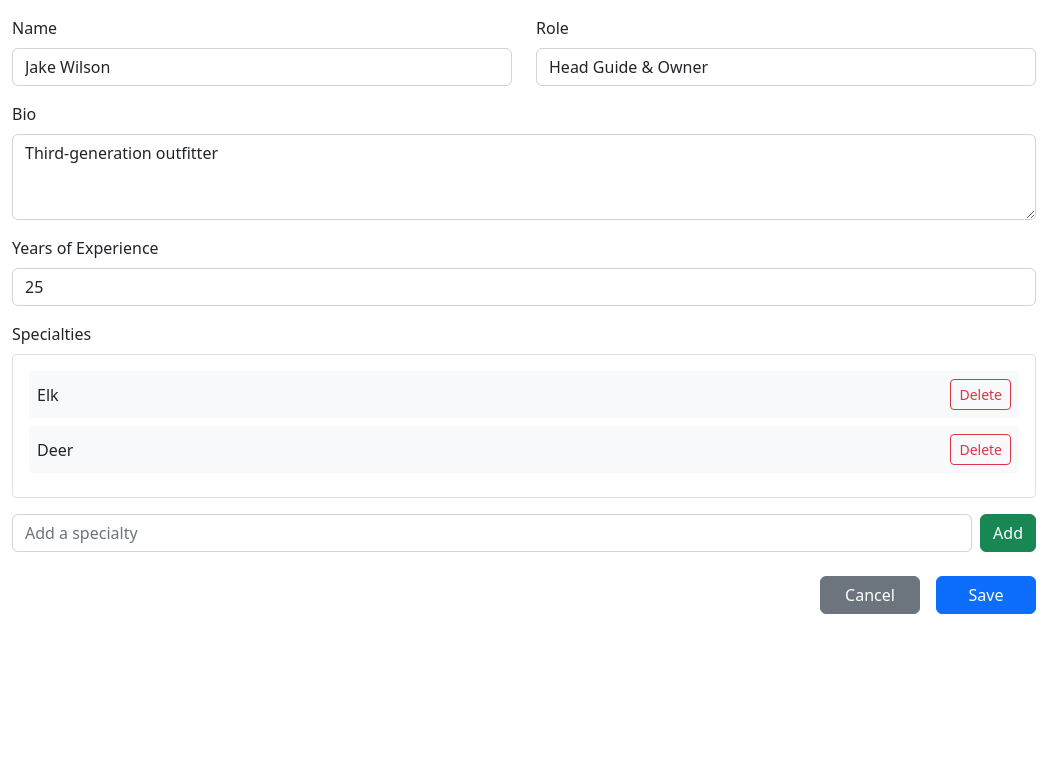
Scenario: GuideForm › should add new specialty when add button clicked
Type "Bear" into the field with placeholder "Add a specialty" at (492, 533), box [12,514,972,552]
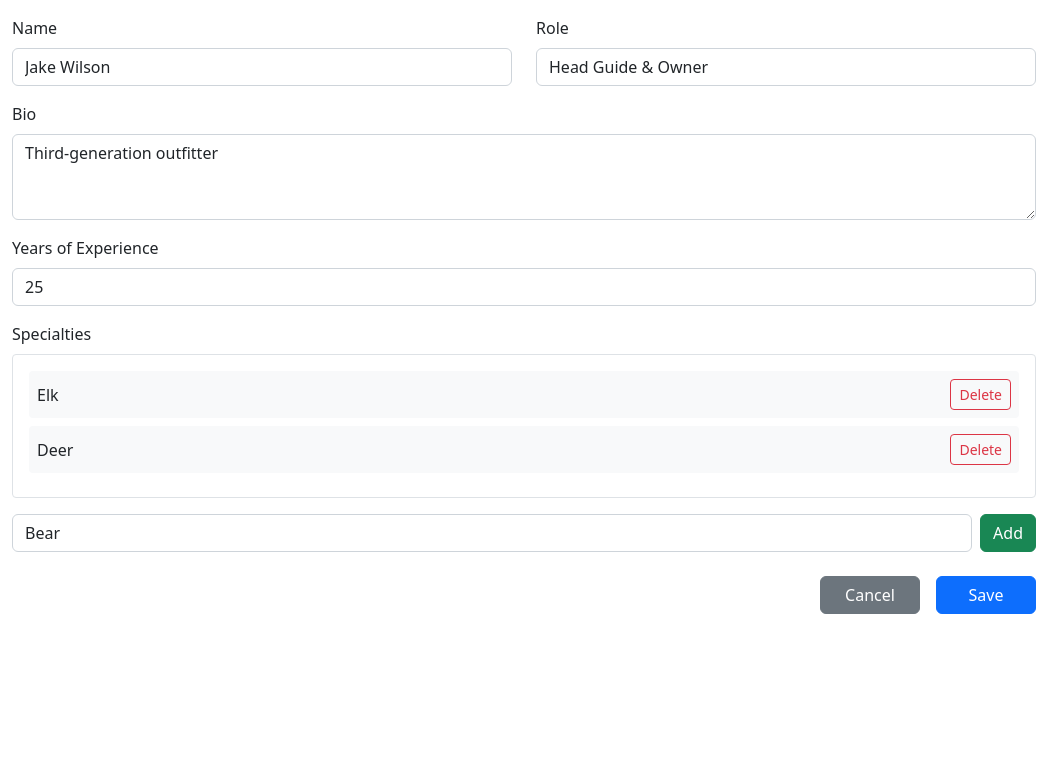
Click the button "Add" at (1008, 533), box [980,514,1036,552]
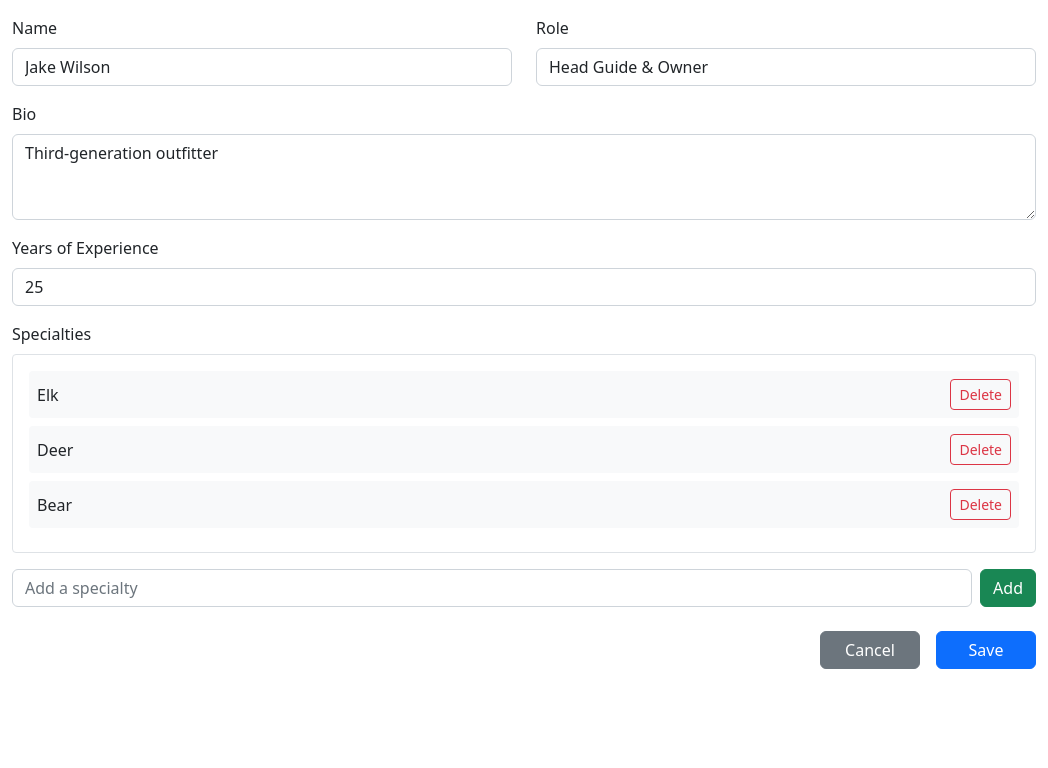
Check: the text "Bear" is shown, box [37,494,72,516]
